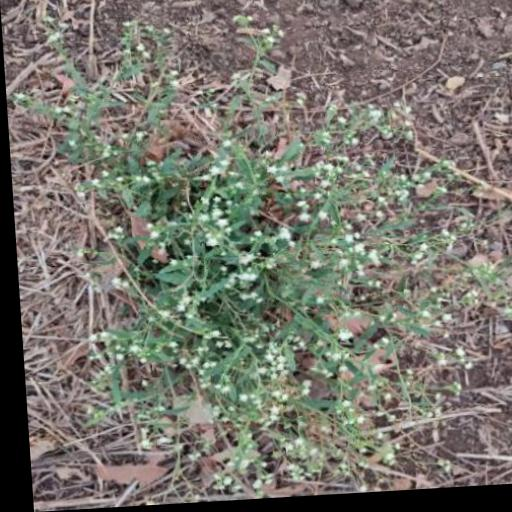crop: (90, 106, 453, 440)
